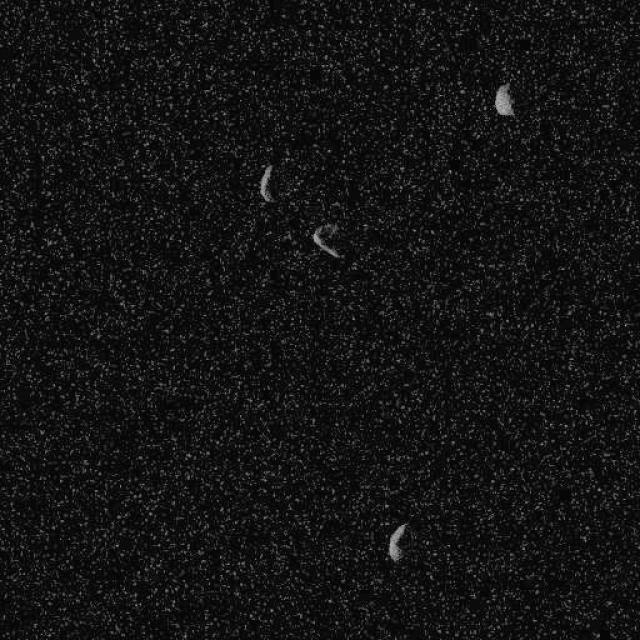D2: (310, 221, 344, 260), (386, 522, 410, 562), (493, 82, 515, 116), (257, 162, 275, 202)
